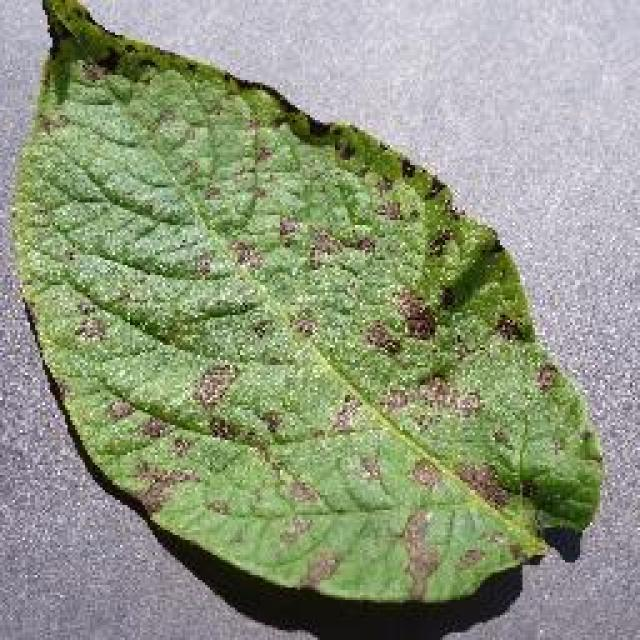Potato: (5, 0, 605, 608)
